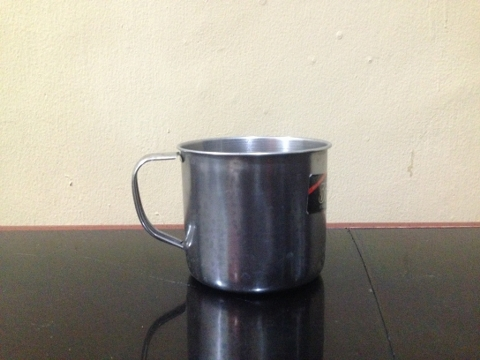tempat minum: (131, 136, 332, 294)
